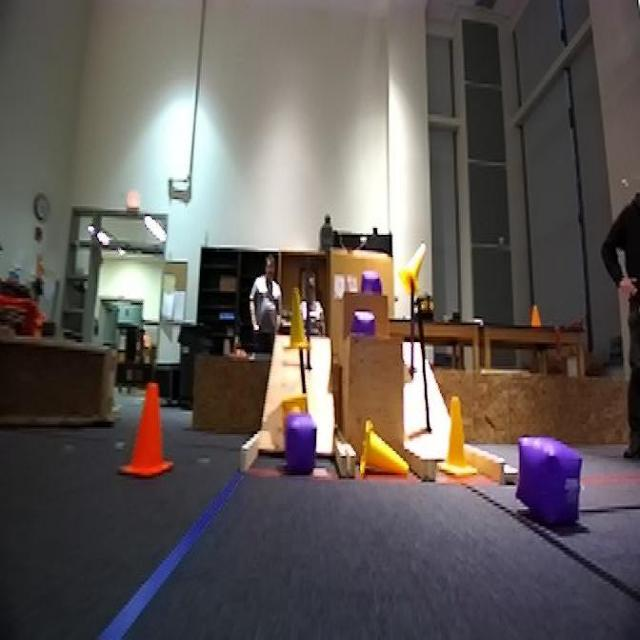frc_cone: (442, 398, 479, 482), (362, 418, 406, 472), (285, 291, 312, 354), (398, 245, 425, 298), (280, 398, 309, 417)
frc_cube: (522, 440, 582, 530), (285, 417, 319, 473), (354, 313, 376, 337), (364, 269, 381, 291)
